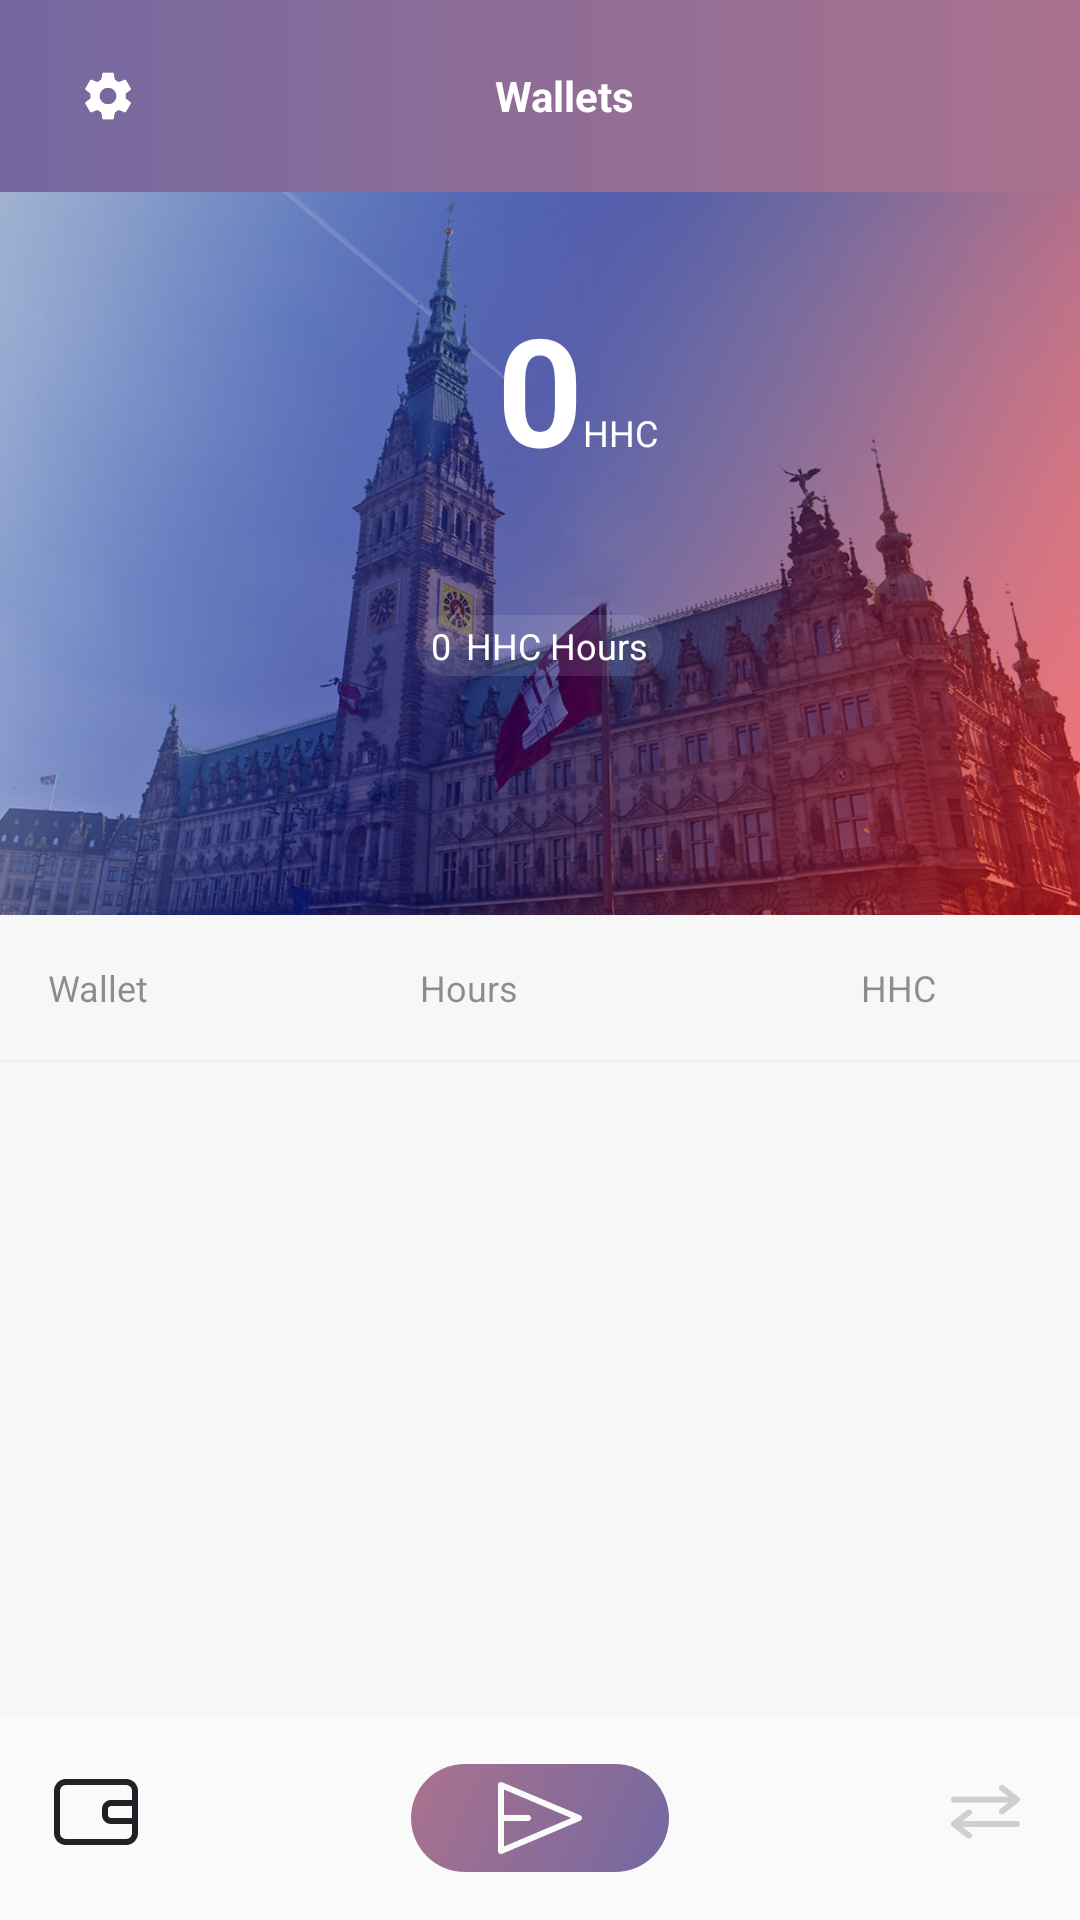

Icons on this 1080x1920 Android screen, each with the point to tap as (x=x, y=y):
send: (x=540, y=1818)
settings: (x=108, y=96)
transactions: (x=985, y=1812)
wallet: (x=96, y=1812)
